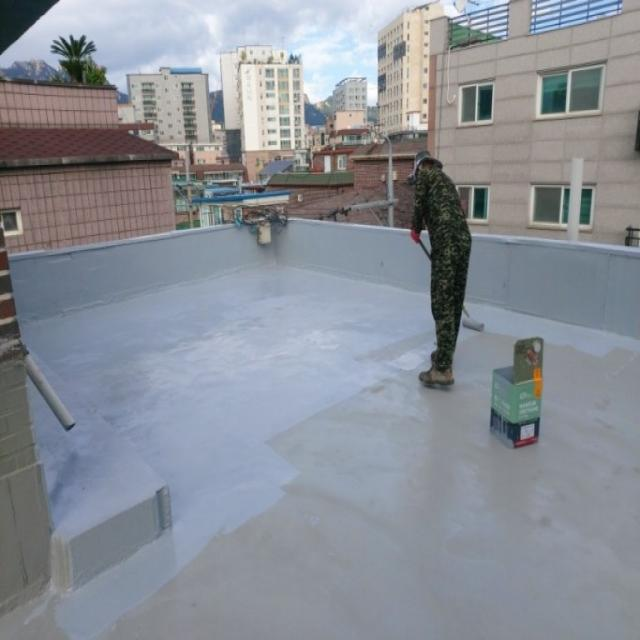roller: (418, 239, 485, 331)
square can: (489, 336, 543, 448)
